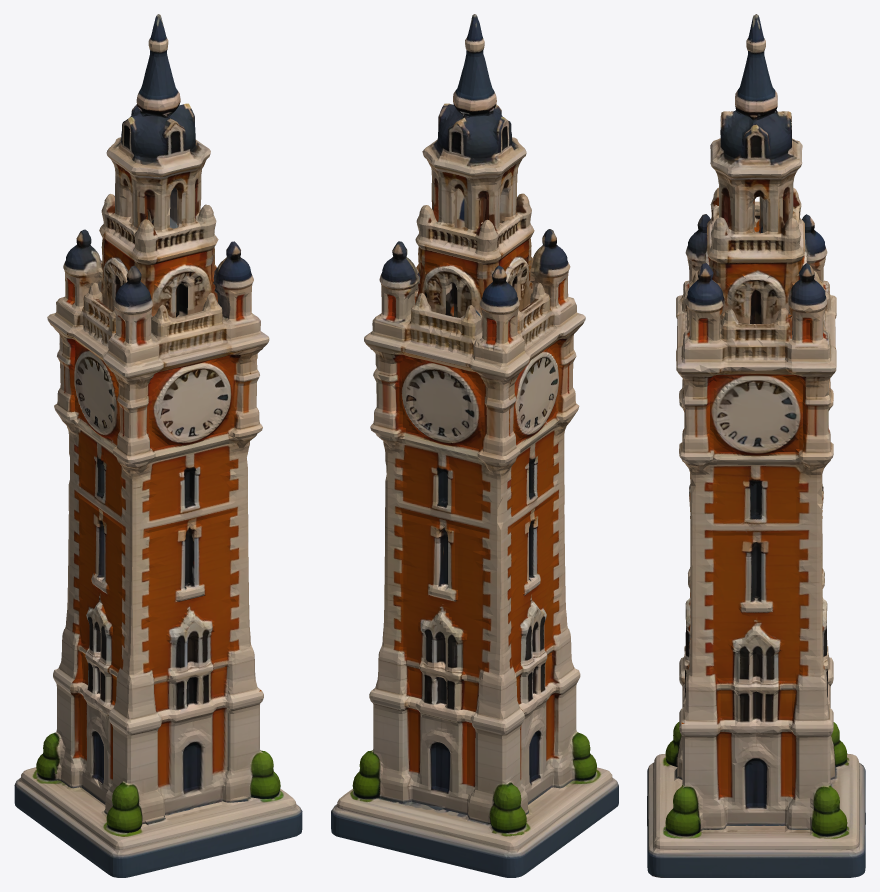
Rendered from lille-belfry.glb.
The picture shows the model from 3 angles, left to right: view 1: azimuth 30°, elevation 25°; view 2: azimuth 150°, elevation 25°; view 3: azimuth 270°, elevation 25°; orthographic projection.
Parts seen in each view (by area): view 1: textured_mesh.obj; view 2: textured_mesh.obj; view 3: textured_mesh.obj.
Part boxes in pixels (x1,y1,x2,y2): textured_mesh.obj: (14, 14, 302, 877); textured_mesh.obj: (331, 14, 618, 877); textured_mesh.obj: (647, 14, 865, 877).
Bounding box in the file's own units: 0.4958 × 1.99 × 0.4819.
1 material, 1 textured.
